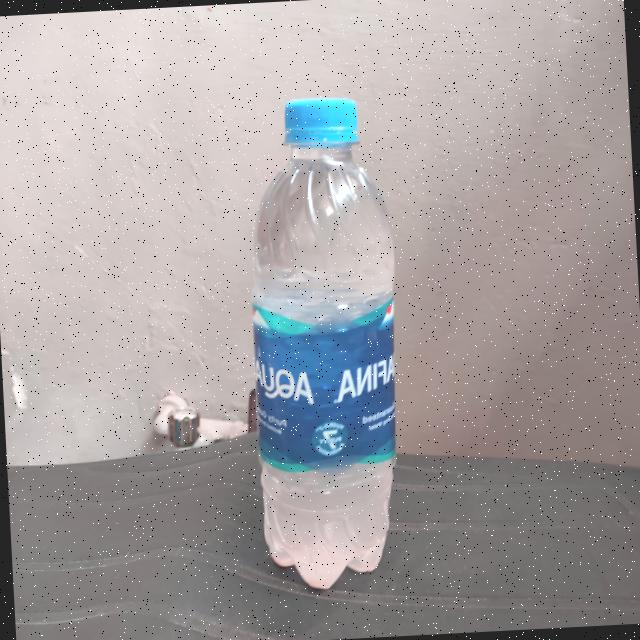bottle: (236, 90, 419, 596)
cap: (268, 86, 366, 156)
label: (241, 316, 401, 466)
